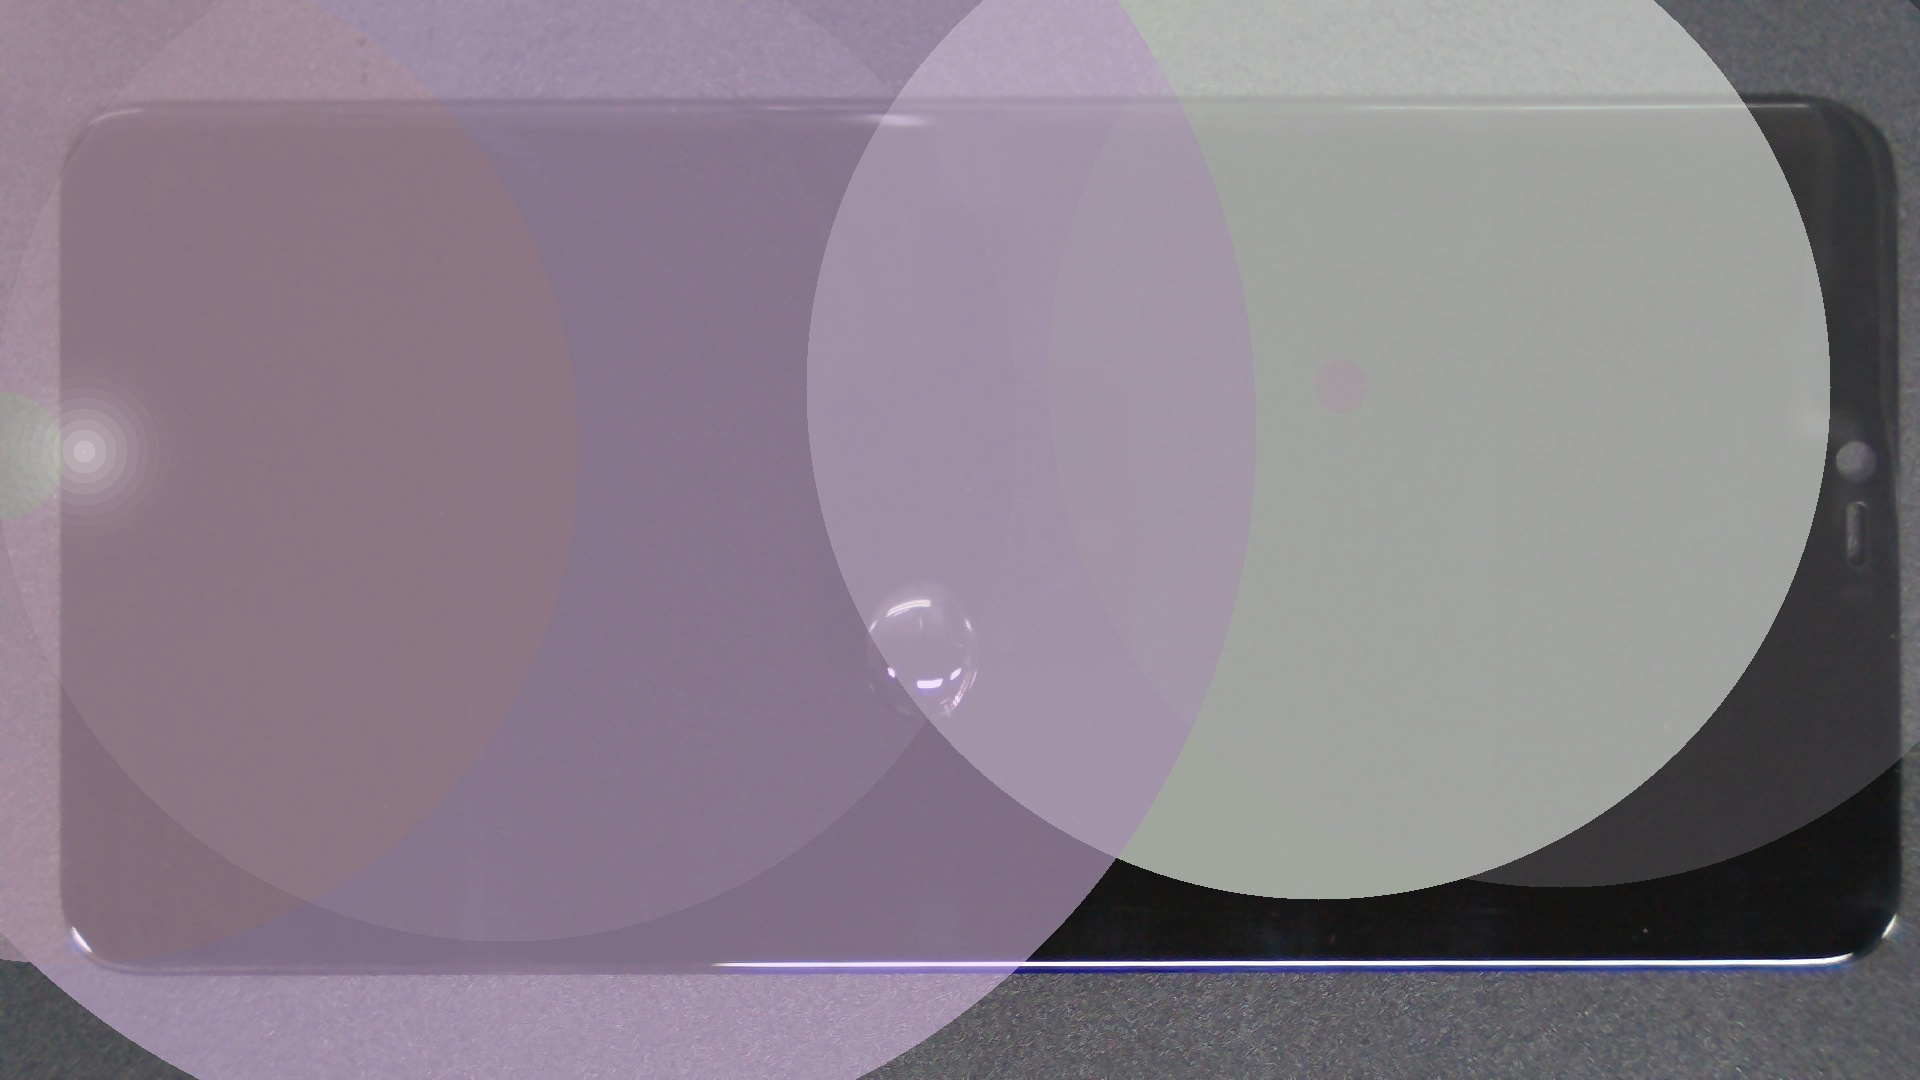oil: (458, 290, 1369, 872)
